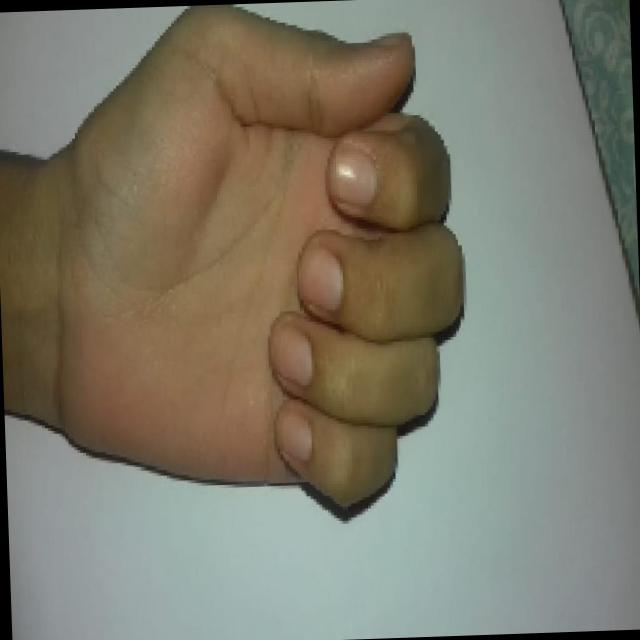Nail: (328, 141, 376, 206), (297, 248, 342, 309), (268, 326, 312, 384), (275, 410, 311, 461), (371, 31, 405, 43)
